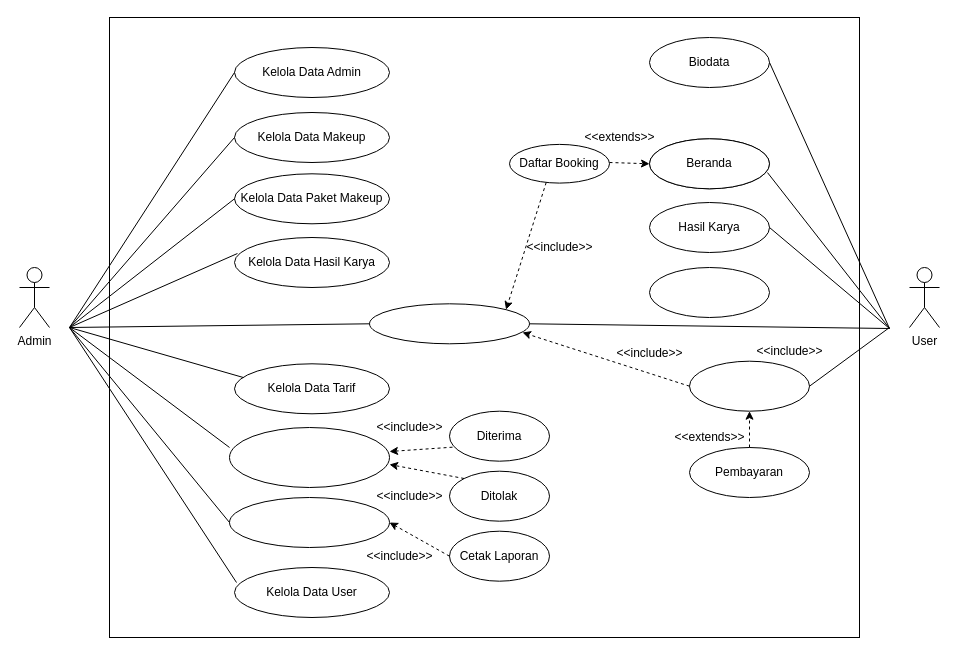
Image size: 957x655. Some labels were removed from this diagram. The box of each missing label's shape, as (x1, y1, x2, y2) in pixels:
Daftar: (648, 266, 770, 318)
Kelola Data Jadwal Pemesanan: (228, 426, 390, 488)
Laporan: (228, 496, 390, 548)
Login: (368, 303, 530, 344)
Riwayat Booking: (688, 360, 810, 411)
